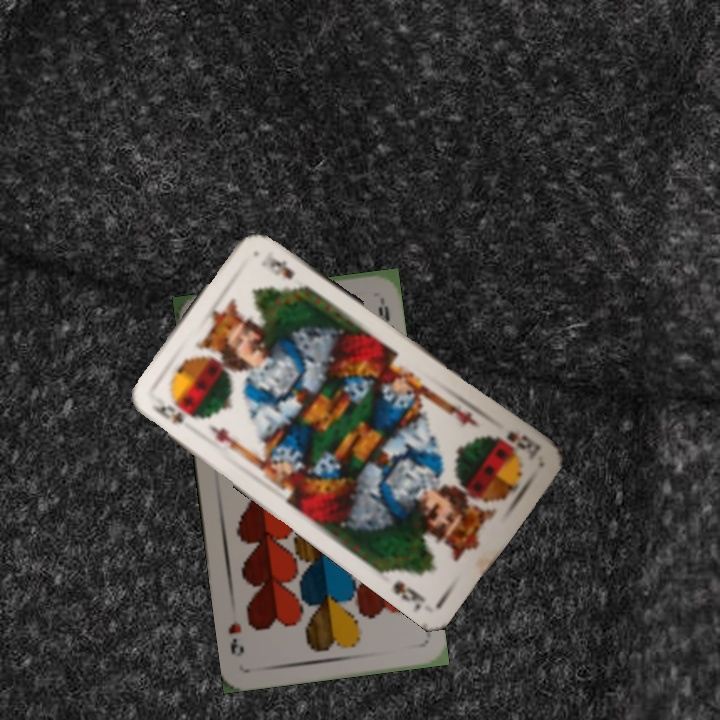SK: (147, 396, 200, 427), (502, 427, 544, 463)
